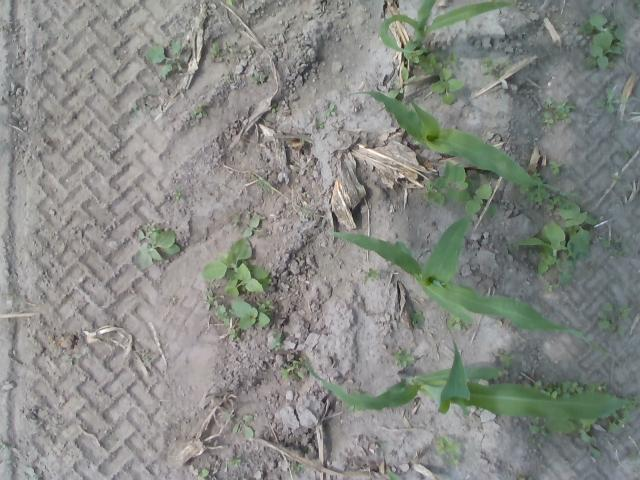Maize: (329, 212, 622, 364), (302, 331, 640, 426), (346, 90, 580, 200), (378, 0, 516, 57)
Weeds: (508, 219, 594, 294), (421, 160, 498, 220), (520, 170, 598, 226), (200, 237, 273, 296), (408, 47, 465, 107), (579, 12, 626, 70), (135, 222, 181, 270), (523, 379, 607, 397), (228, 298, 274, 330), (596, 301, 633, 335), (537, 98, 576, 130), (147, 40, 180, 76), (528, 415, 576, 438), (577, 416, 602, 456), (434, 435, 462, 467), (478, 55, 512, 80), (595, 88, 629, 112), (230, 210, 260, 237), (208, 40, 252, 58), (387, 66, 409, 99), (598, 232, 624, 259), (230, 414, 256, 438), (607, 408, 631, 433), (280, 358, 306, 380), (444, 312, 470, 331), (392, 238, 414, 258), (346, 390, 365, 412), (494, 348, 516, 366), (392, 349, 414, 367), (213, 304, 230, 326), (620, 394, 640, 410), (250, 172, 269, 188), (192, 466, 210, 480), (64, 353, 83, 366), (202, 294, 218, 308), (547, 159, 561, 175), (269, 332, 283, 348), (410, 311, 427, 324), (386, 468, 404, 480), (364, 268, 381, 280), (227, 328, 241, 342), (172, 188, 185, 203), (528, 438, 544, 449), (190, 106, 204, 118), (129, 104, 141, 118), (227, 457, 241, 469), (250, 73, 264, 84), (611, 170, 622, 182), (325, 103, 335, 116), (290, 462, 304, 471), (622, 151, 634, 160), (270, 102, 278, 113), (226, 74, 234, 84), (144, 352, 154, 360), (630, 452, 640, 460), (316, 120, 324, 129), (516, 476, 534, 480), (226, 0, 240, 5), (633, 0, 640, 8)
